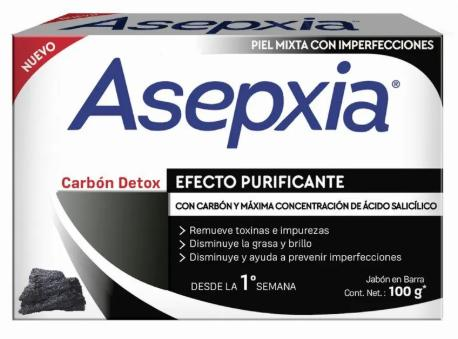brand: (73, 55, 402, 151)
extra_detail: (172, 170, 353, 192)
net_weight: (389, 284, 425, 301)
product_name: (58, 169, 166, 191)
